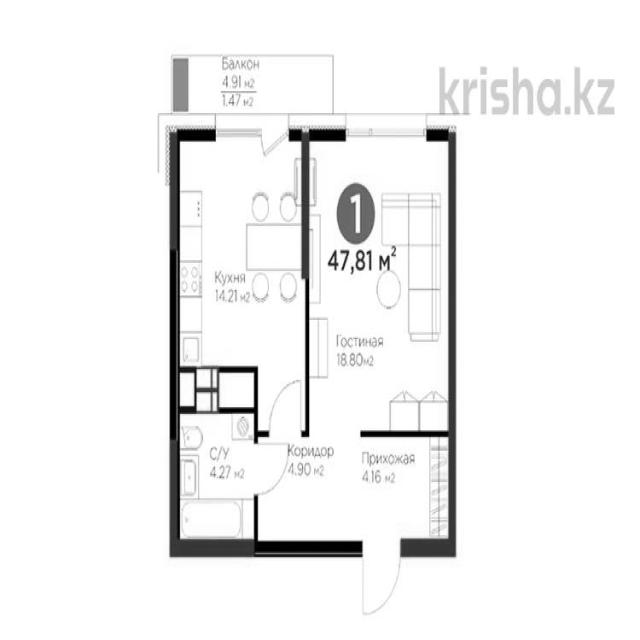balcony: (175, 58, 334, 138)
bathroom: (256, 431, 352, 546), (177, 411, 255, 544)
hallway: (353, 434, 452, 549)
kitchen: (174, 135, 306, 369)
living_room: (306, 137, 454, 429)
